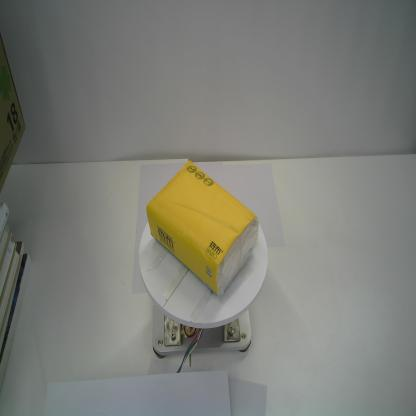Tissue: (144, 158, 260, 300)
